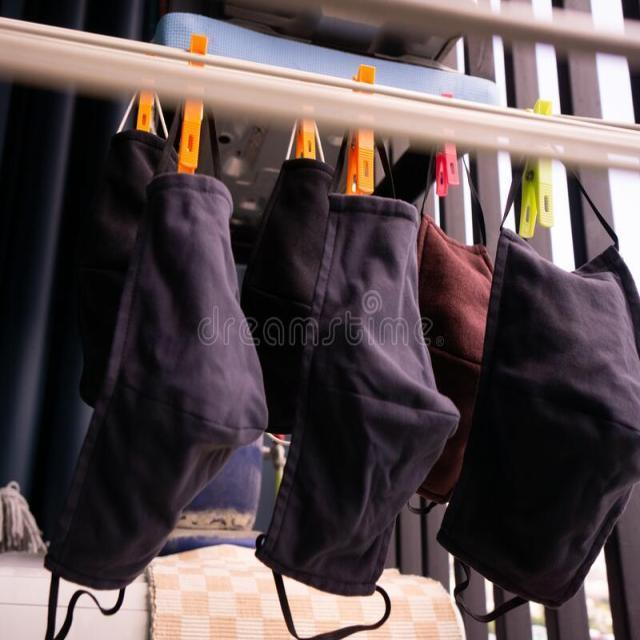clothes: (65, 179, 243, 577), (282, 174, 435, 612), (469, 230, 638, 625)
